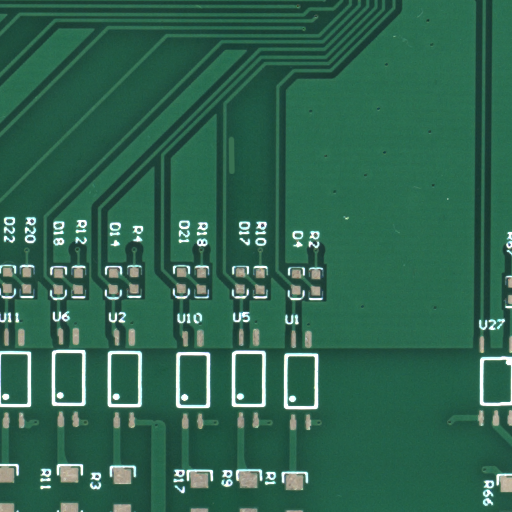Spurious_copper: (231, 156, 240, 195)
